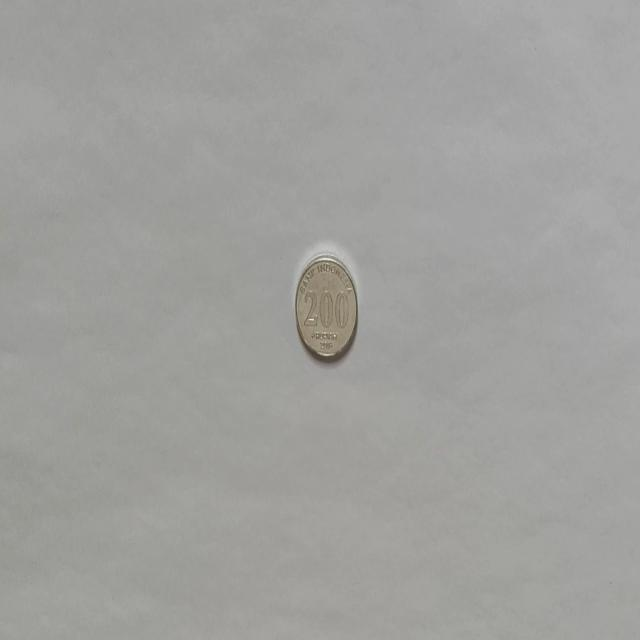dua ratus rupiah: (294, 252, 358, 360)
